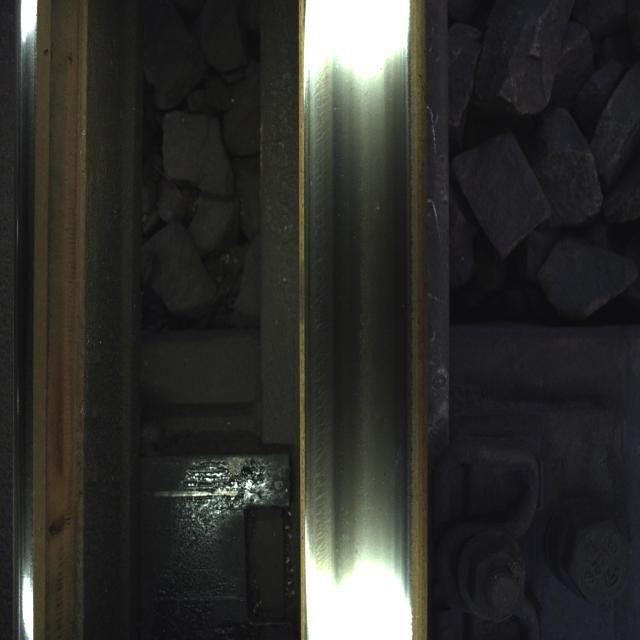break: (303, 57, 405, 588)
